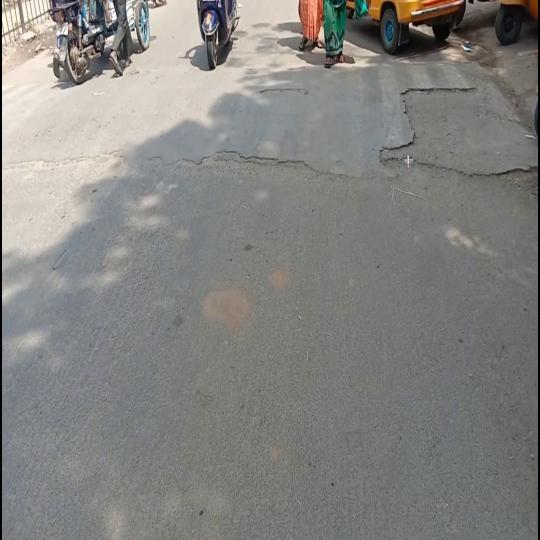Speed Bump: (3, 60, 534, 176)
